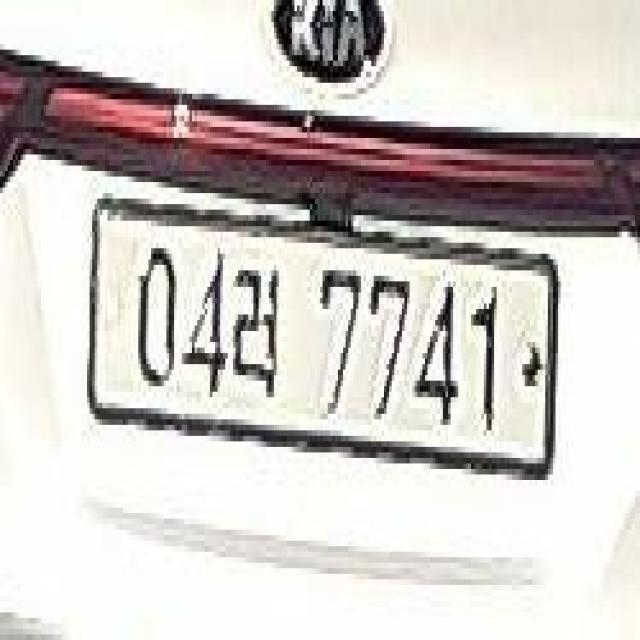illegal_plate: (85, 189, 560, 503)
